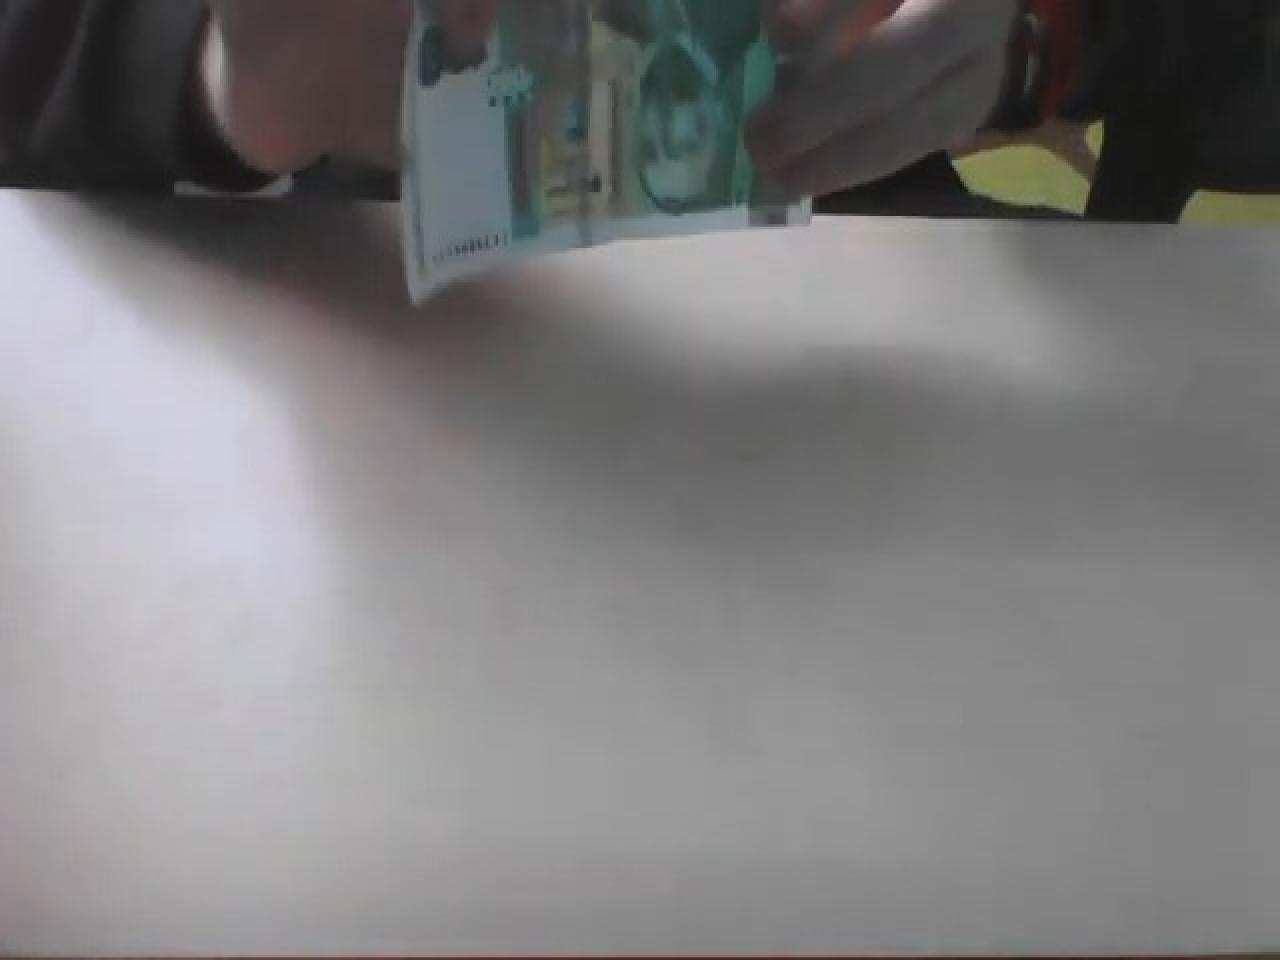10leva: (396, 0, 818, 307)
